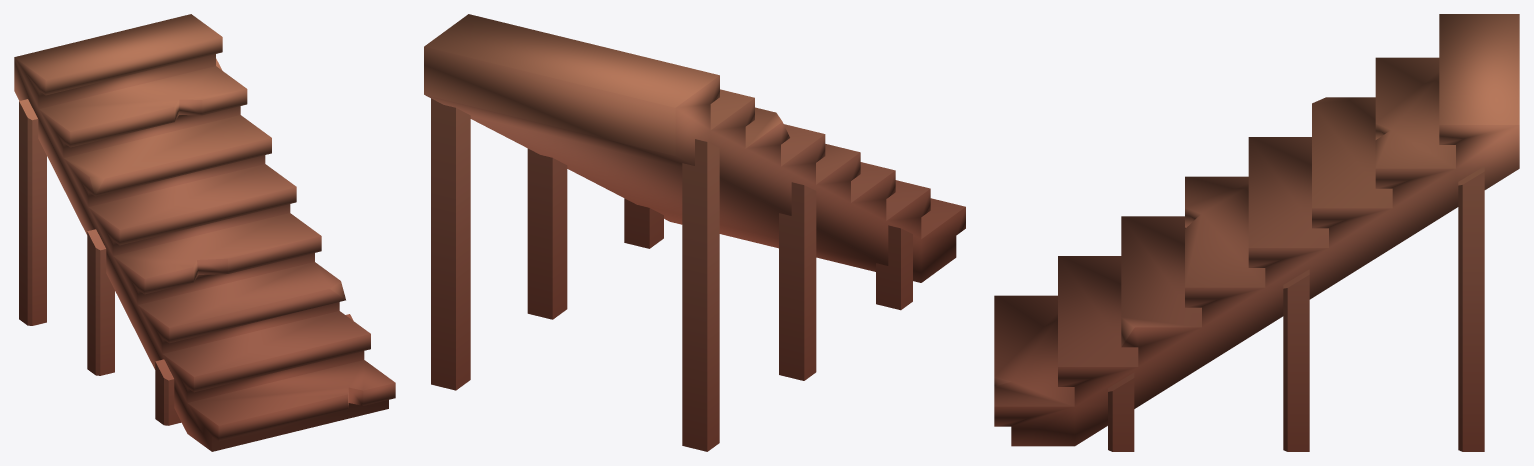
File: stairs-optimized.glb
3 views of the same model, side by side, from view 1: azimuth 30°, elevation 25°; view 2: azimuth 150°, elevation 25°; view 3: azimuth 270°, elevation 25° (orthographic). The views are drawn at different scales.
Parts seen in each view (by area): view 1: stairs_wood; view 2: stairs_wood; view 3: stairs_wood.
Part boxes in pixels (x1,y1,x2,y2): stairs_wood: [14, 14, 395, 451]; stairs_wood: [424, 14, 965, 451]; stairs_wood: [994, 14, 1519, 451].
Size of what is drawn, in the model's own units: 3.3 by 4.05 by 6.
Materials: 1 (1 with a texture image).
